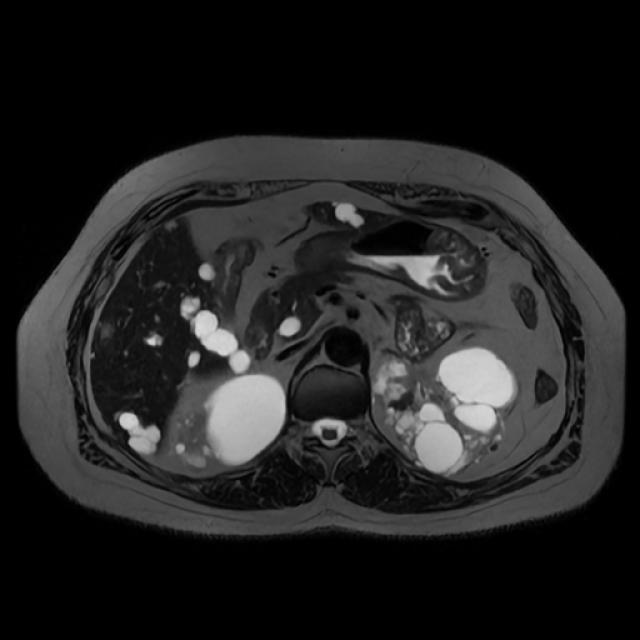sag: (174, 373, 289, 469)
sol: (376, 345, 514, 477)
